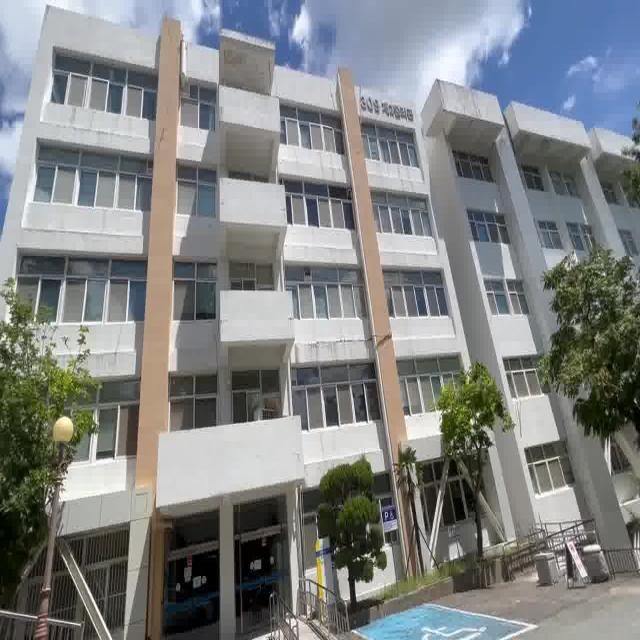building: (42, 12, 542, 372)
